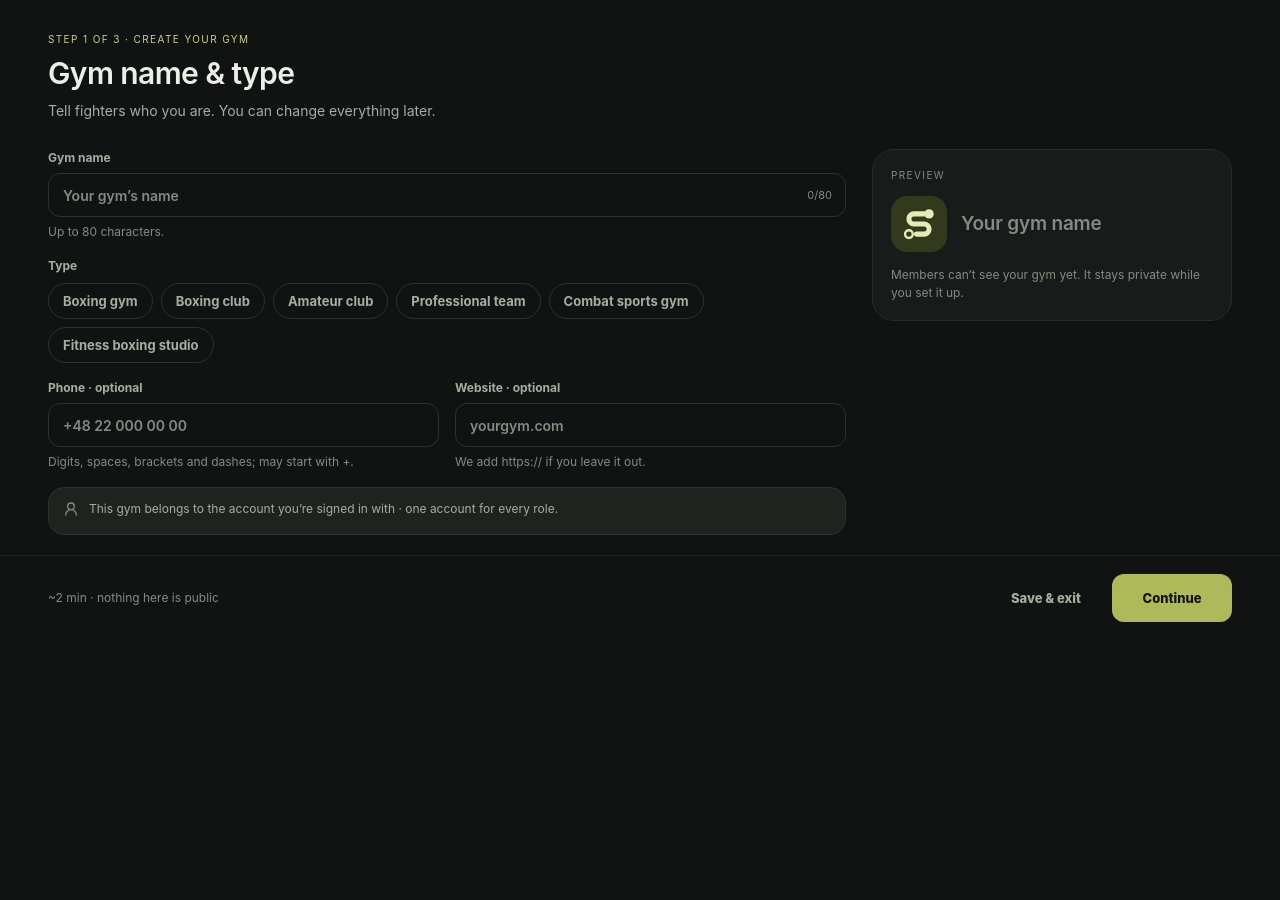
Scenario: TypeStep (OG1) › a resumed draft opens without writing the typed values
Type "New Gym" into the field labelled "Gym name" at [447, 195], box [48, 173, 846, 217]
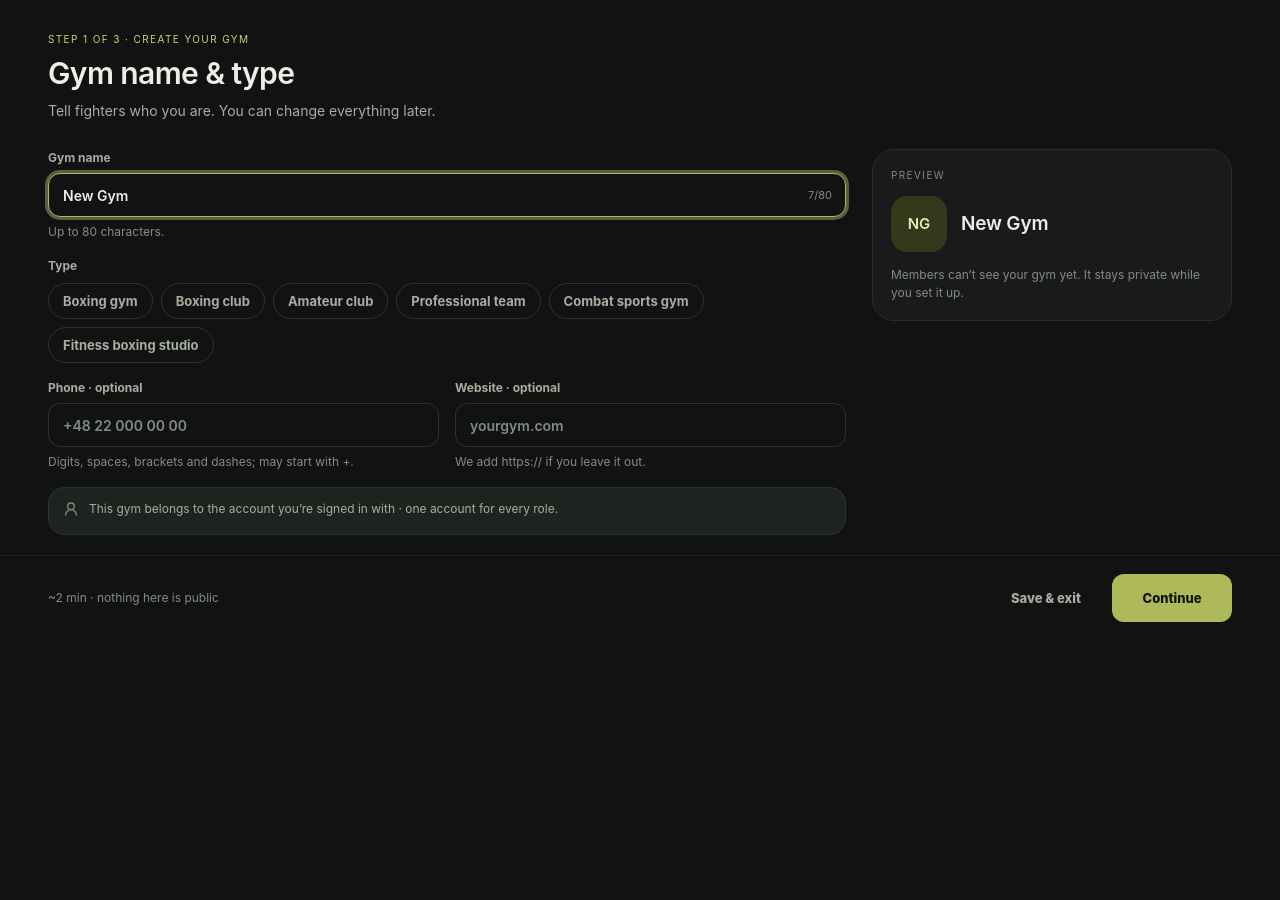
Click the radio button labelled "Boxing gym" at [100, 301], box [48, 283, 153, 319]
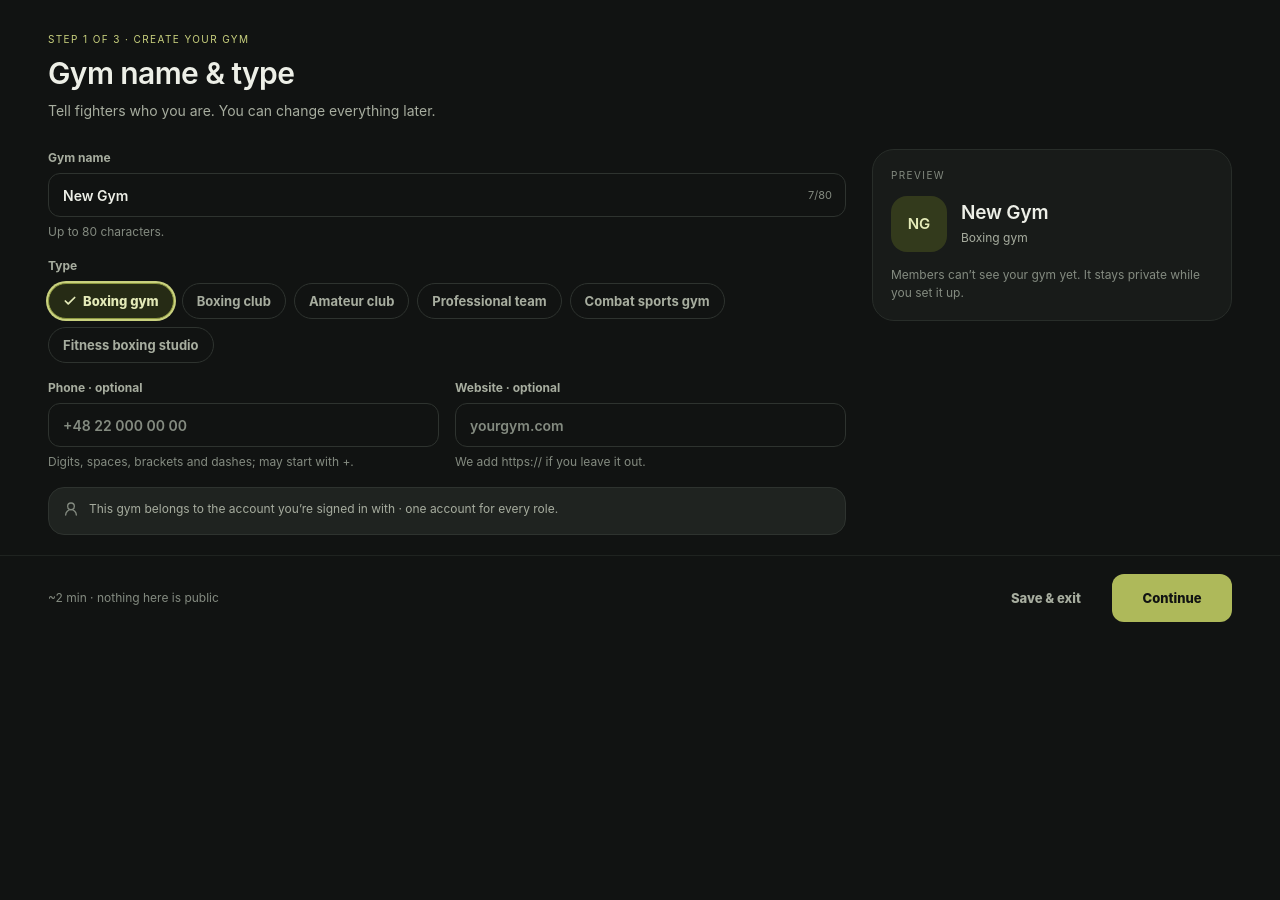
Click the button "Continue" at [1172, 598], box [1112, 574, 1232, 622]
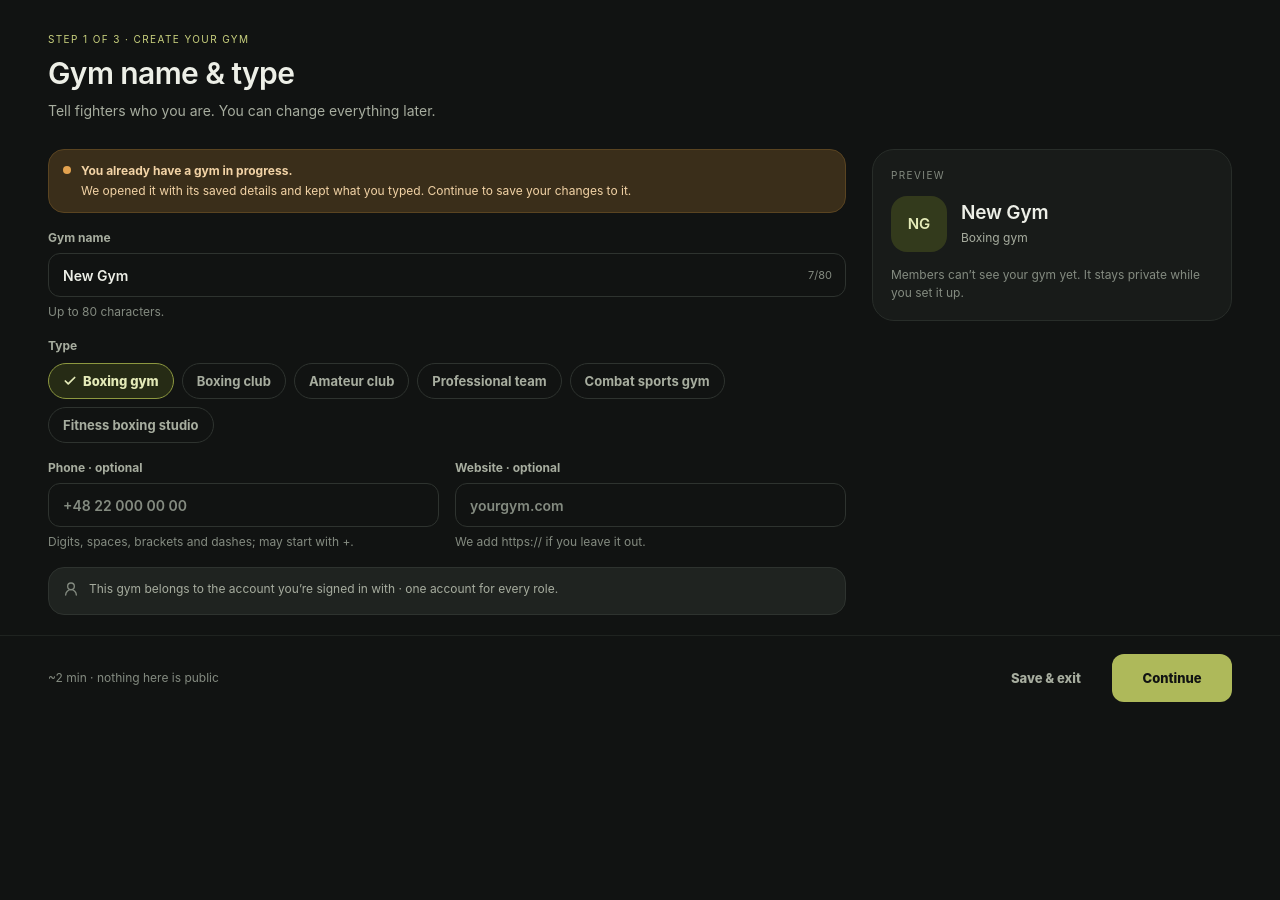
Expected: the text "You already have a gym in progress." is shown, [81, 163, 292, 178]
